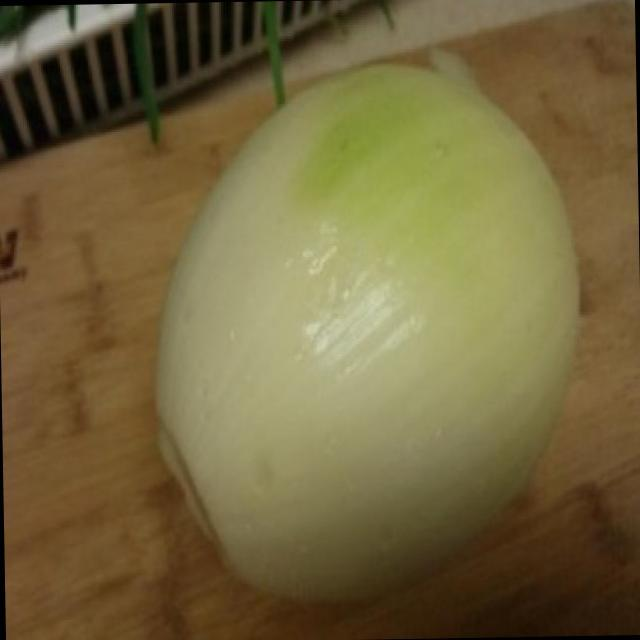Onion: (162, 60, 583, 600)
